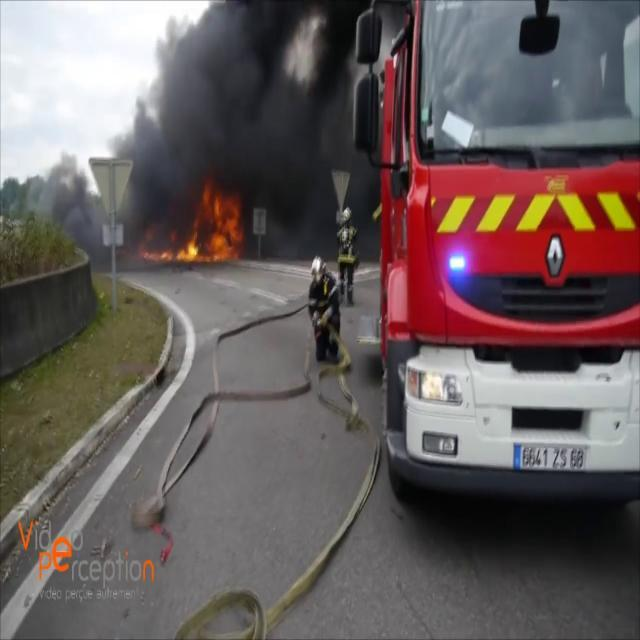Fire: (150, 182, 247, 268)
Smoke: (120, 1, 358, 242)
